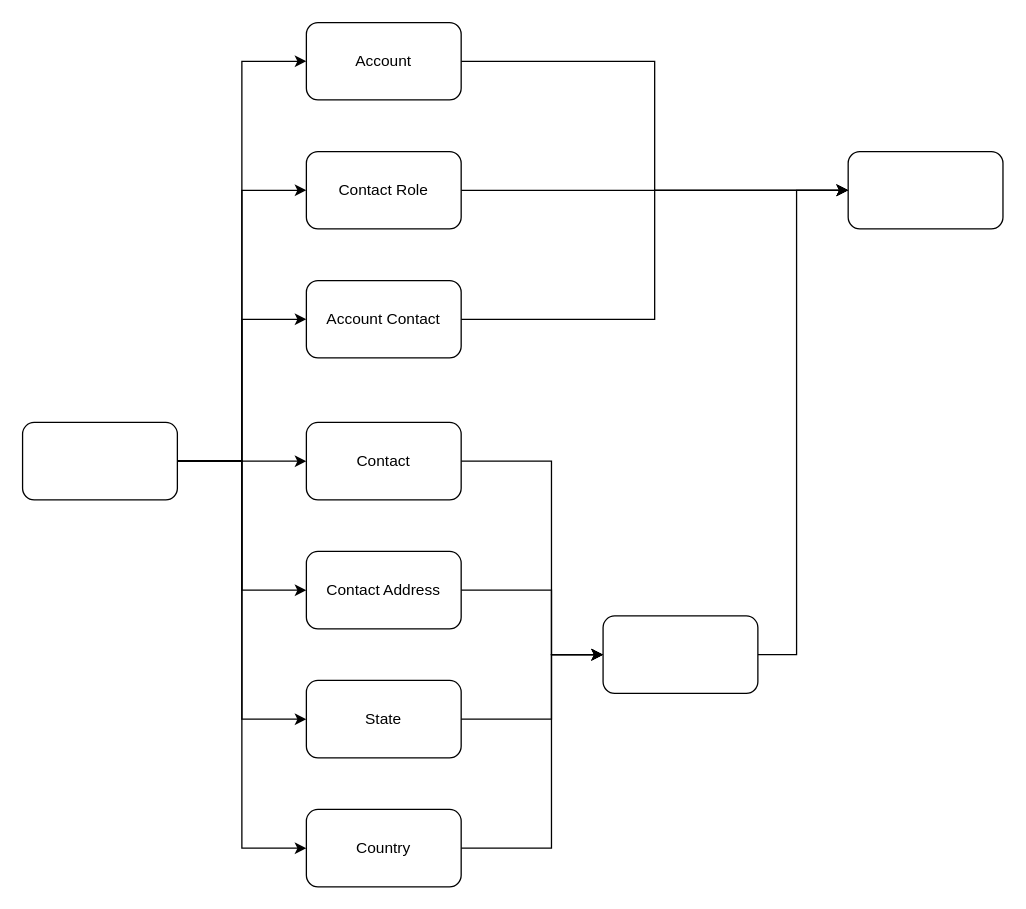
Image size: 1026x909. Some labels were removed from this diagram. The shapes that lost their labels are listed below. From the top down, each one's centre as x and y in pixels, then its label:
[925,189]: Canonical Account
[99,460]: Raw Source
[680,654]: Canonical Contact
